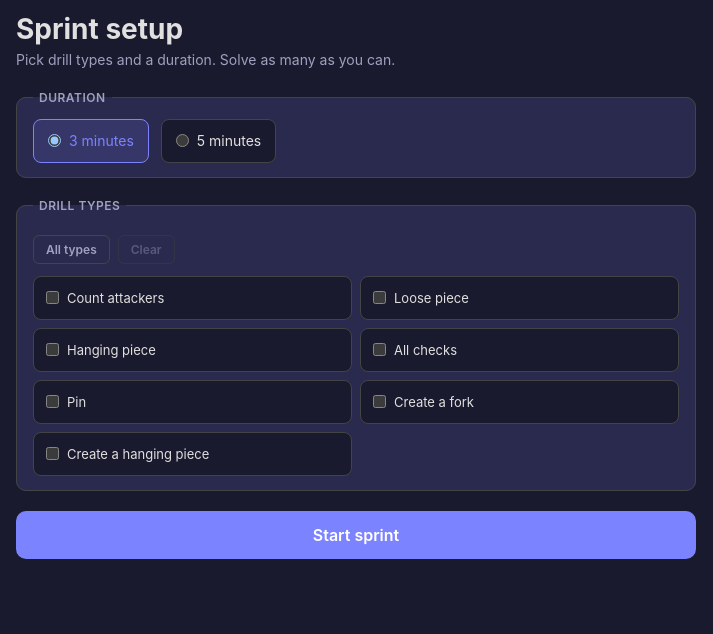
Test: <DrillSprintSetupPage> KS-2241 › KS-2350 — обработка 409 ConflictException › 409 → conflict-плашка вместо generic-error
Click the button with test id "drill-sprint-setup-start" at (356, 535), box [16,511,696,559]
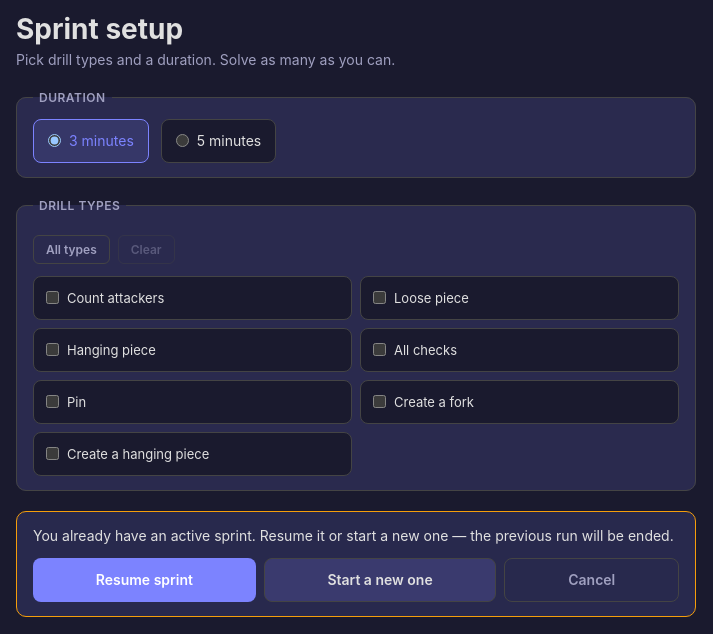
Check: the message with test id "drill-sprint-setup-conflict" is shown, box [16,511,696,617]
Check: the button with test id "drill-sprint-setup-start" is gone
Check: the button with test id "drill-sprint-setup-resume" is shown, box [33,558,256,602]
